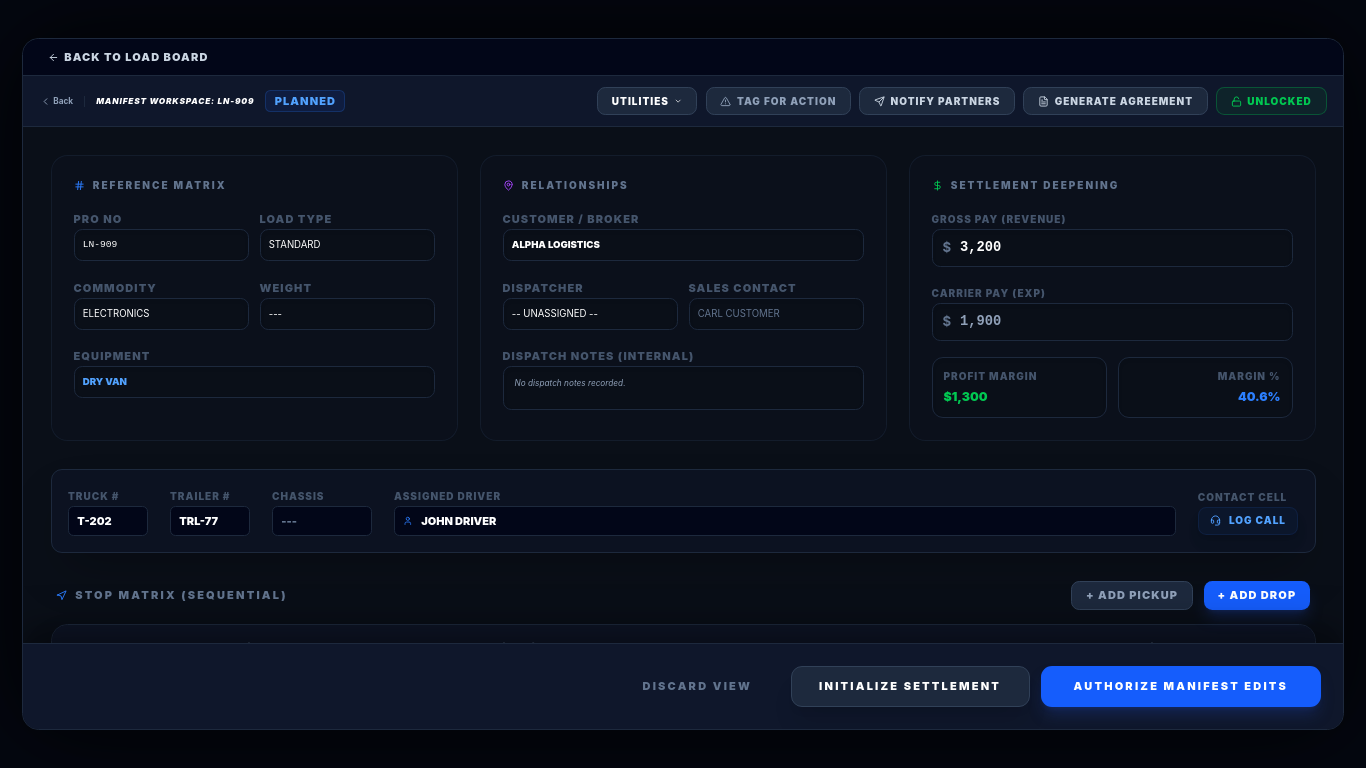
Test: LoadDetailView Generate Agreement button (STORY-009 Phase 9) › shows an error toast when POST /api/agreements fails
The width and height of the screenshot is (1366, 768).
Click the button "Generate Agreement": (1116,101) 1023,87 -> 1208,115
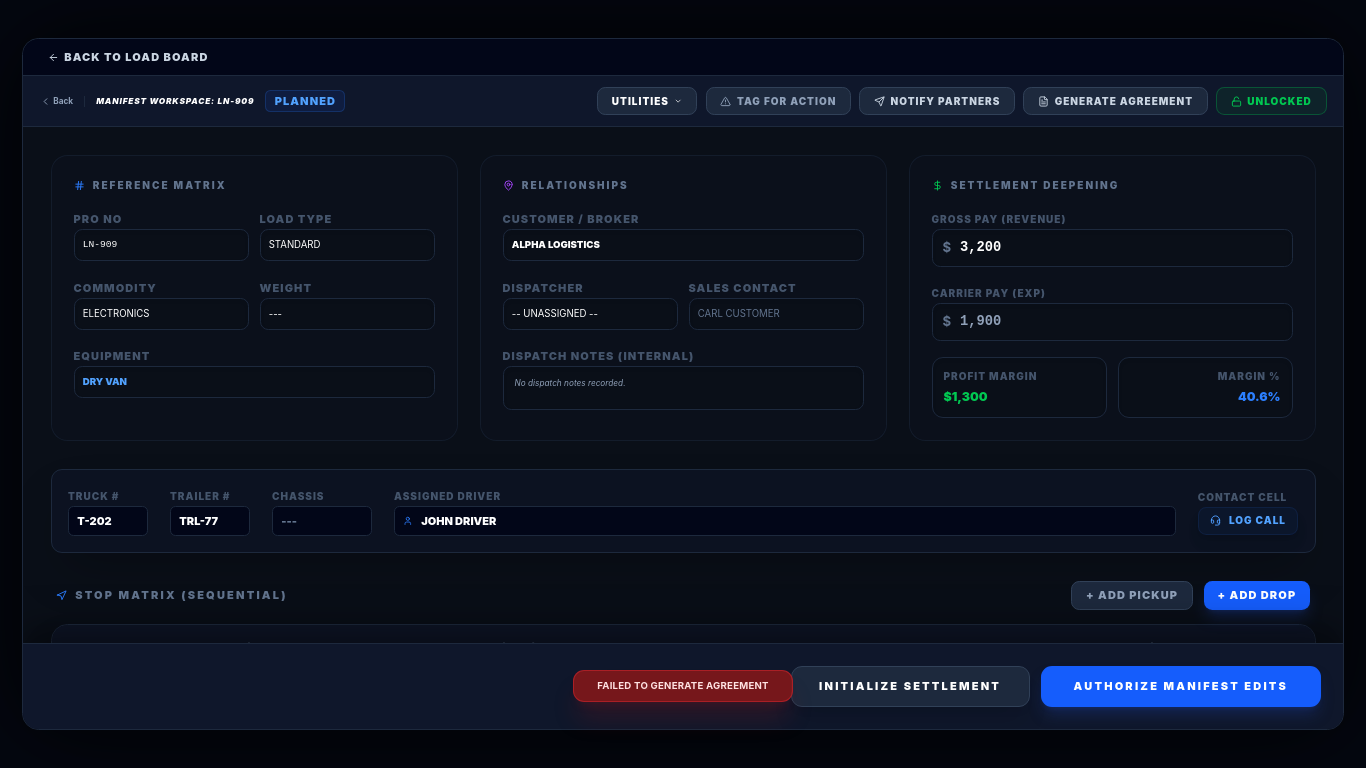
Expected: the text "Failed to generate agreement" is shown, 573,670 -> 793,702
